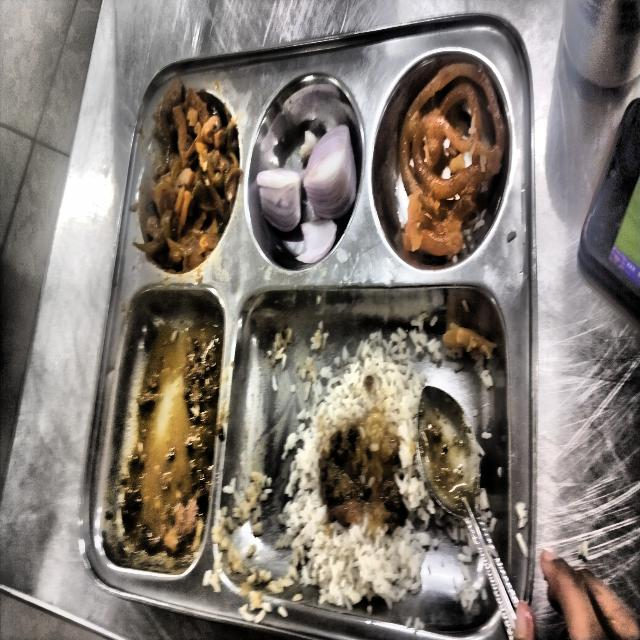Chilli-paneer: (122, 321, 209, 557)
Chutney: (397, 65, 489, 256)
Raita: (277, 329, 445, 609)
Salad-Chukundar: (247, 74, 363, 270)
gajar-aloo: (131, 76, 241, 272)
